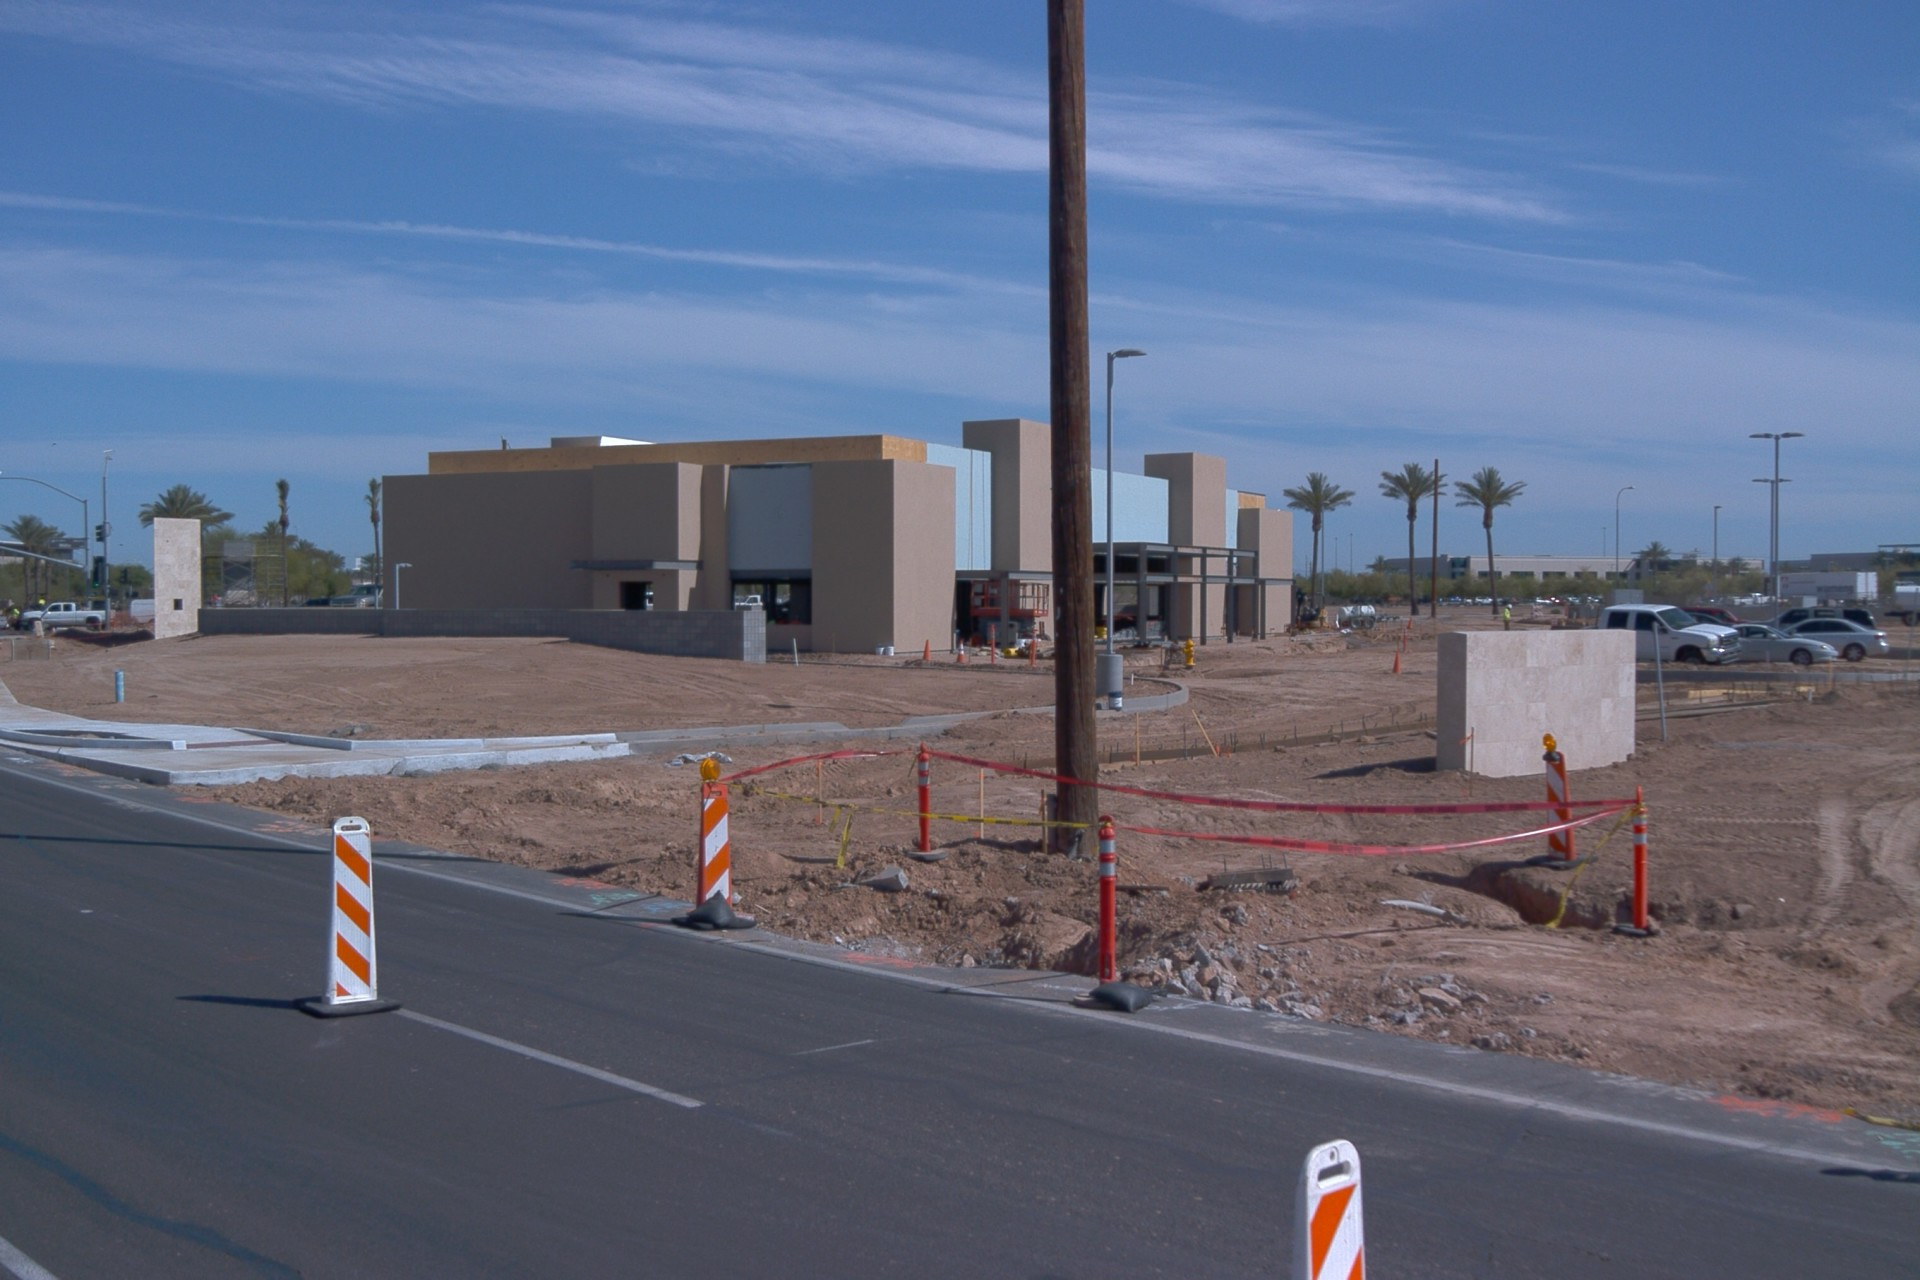TYPE_PEDESTRIAN: (1501, 604, 1513, 633), (14, 607, 22, 621)
TYPE_VEHICLE: (1554, 607, 1740, 669), (1779, 616, 1891, 665), (1743, 601, 1877, 640), (1729, 621, 1842, 665), (18, 599, 107, 632), (1335, 602, 1402, 630), (1882, 583, 1920, 629), (328, 582, 385, 607), (1679, 604, 1743, 625), (136, 597, 159, 629), (297, 591, 340, 608), (734, 593, 782, 608), (766, 602, 792, 625), (29, 588, 52, 607), (1473, 597, 1494, 605), (1462, 595, 1474, 607)
